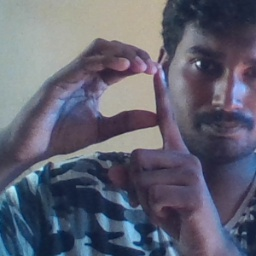P: (46, 33, 209, 221)
